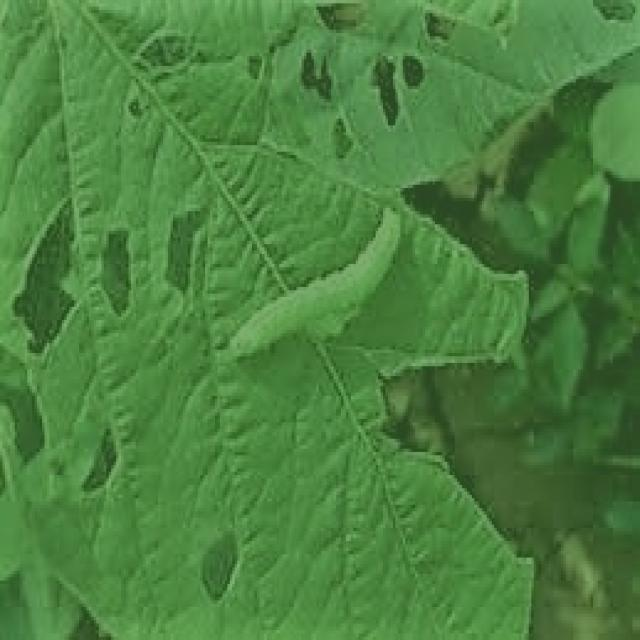armyworm: (232, 204, 402, 355)
